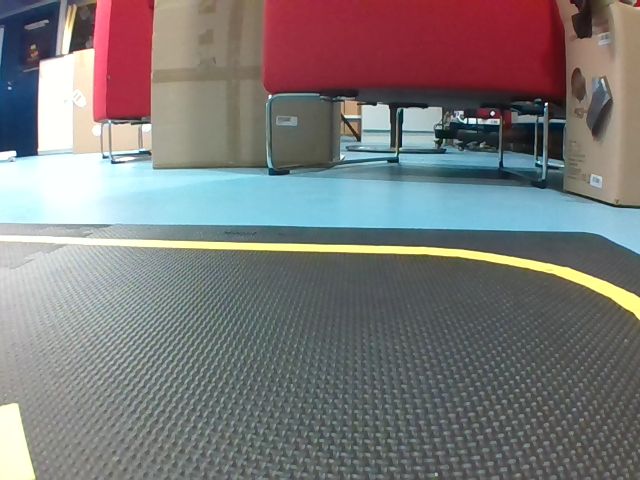no30: (270, 82, 303, 138)
